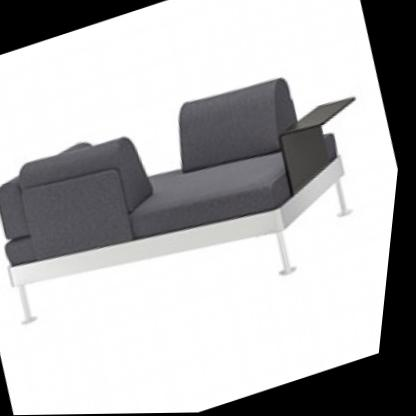Sofa: (0, 8, 415, 376)
